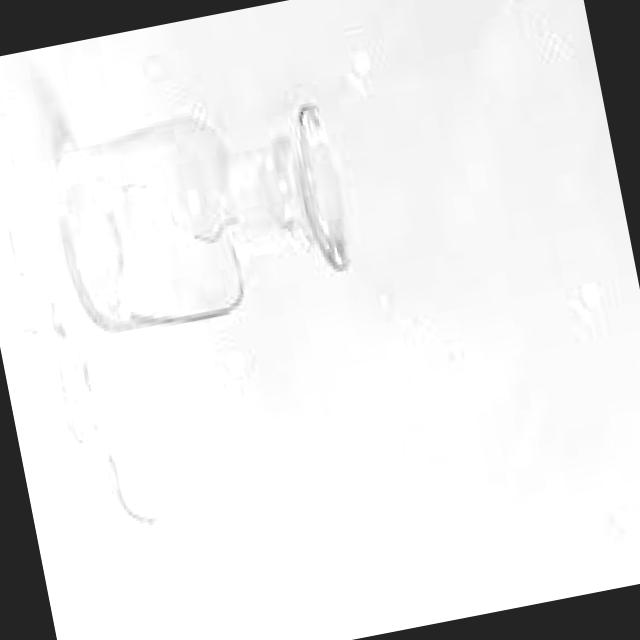bottle: (57, 107, 347, 333)
